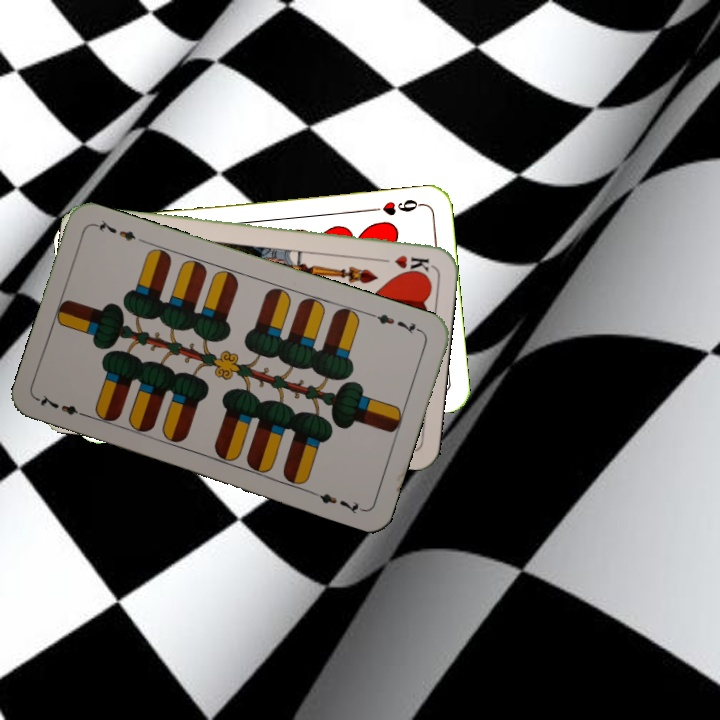E7: (34, 391, 92, 421), (367, 309, 425, 336)
H9: (367, 195, 426, 218)
HK: (373, 251, 432, 276)
